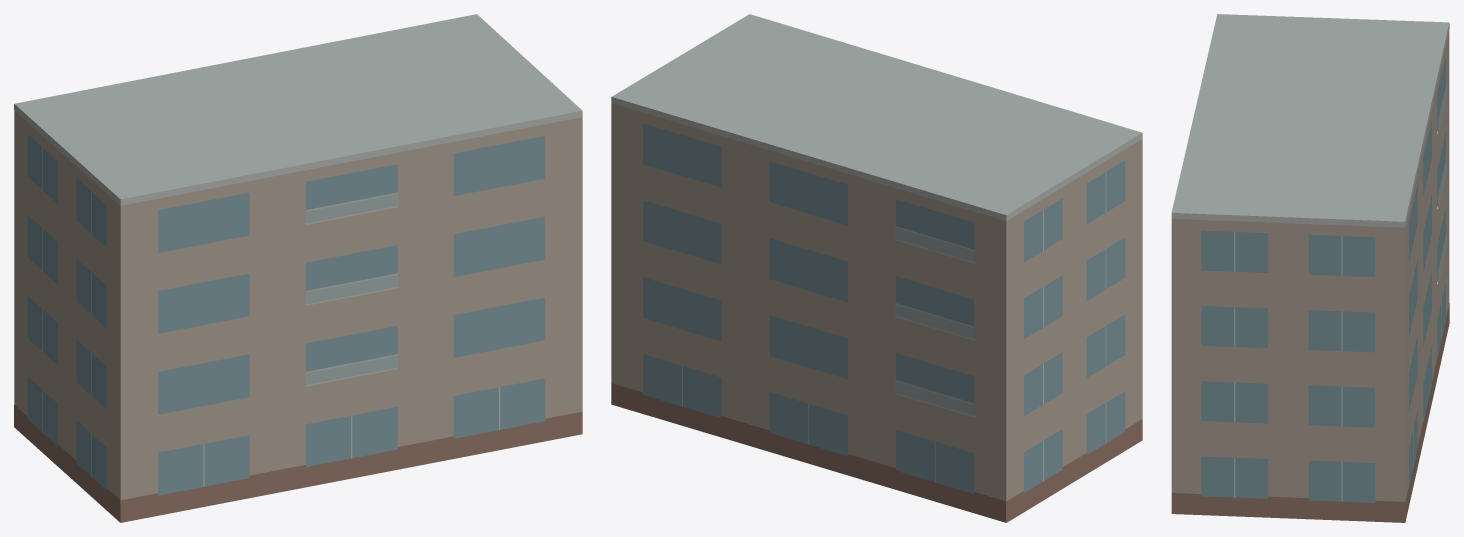
File: survey-upis-32910000.glb
The picture shows the model from 3 angles, left to right: view 1: azimuth 30°, elevation 25°; view 2: azimuth 150°, elevation 25°; view 3: azimuth 270°, elevation 25°; orthographic projection. The views are drawn at different scales.
Parts seen in each view (by area): view 1: survey-upis-32910000.tmp; view 2: survey-upis-32910000.tmp; view 3: survey-upis-32910000.tmp.
Boxes of the visible parts, x1,y1,x2,y2 form: survey-upis-32910000.tmp: [14, 14, 582, 522]; survey-upis-32910000.tmp: [611, 14, 1142, 522]; survey-upis-32910000.tmp: [1171, 14, 1449, 522].
Size of the model in its own units: 18.21 by 12.3 by 10.3.
